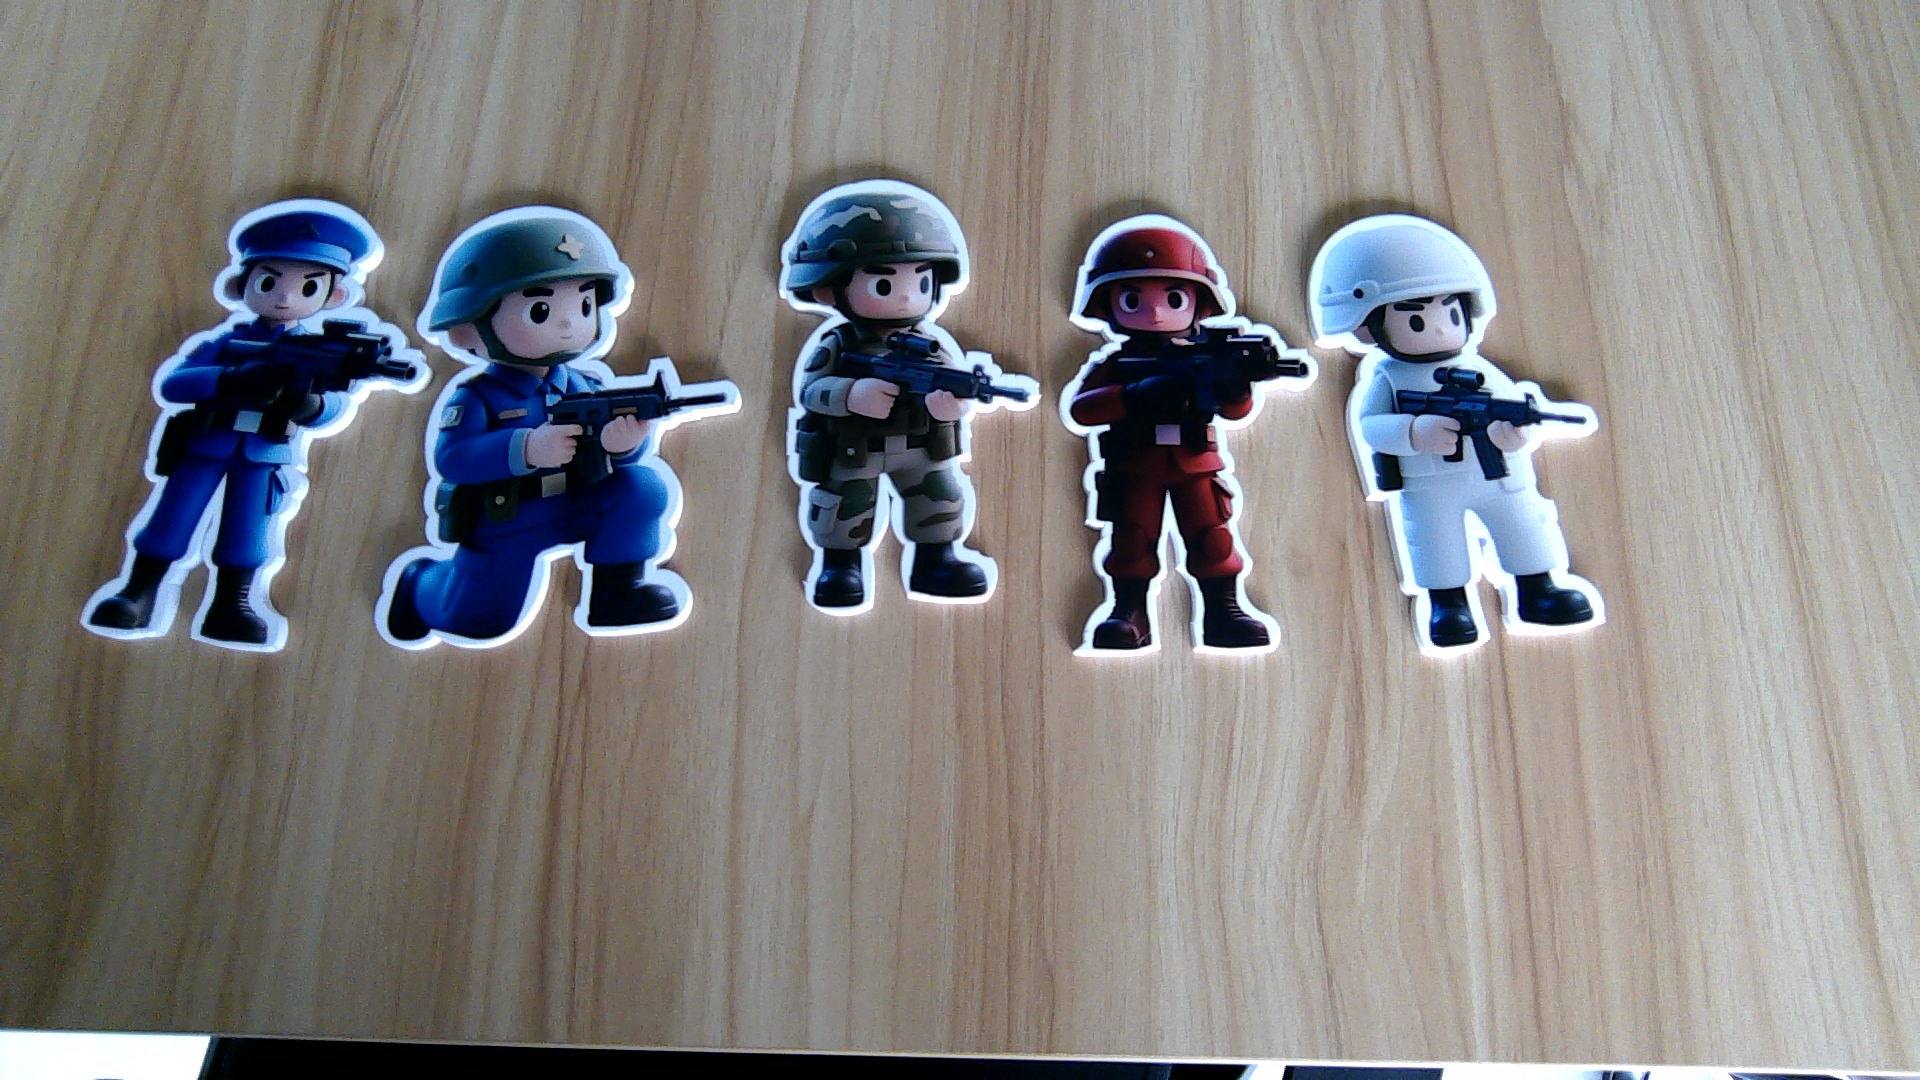人质: (1337, 363, 1619, 657)
友军: (782, 330, 1031, 612)
敌人1: (1058, 336, 1313, 663)
敌人2: (371, 369, 735, 654), (74, 318, 380, 654)
